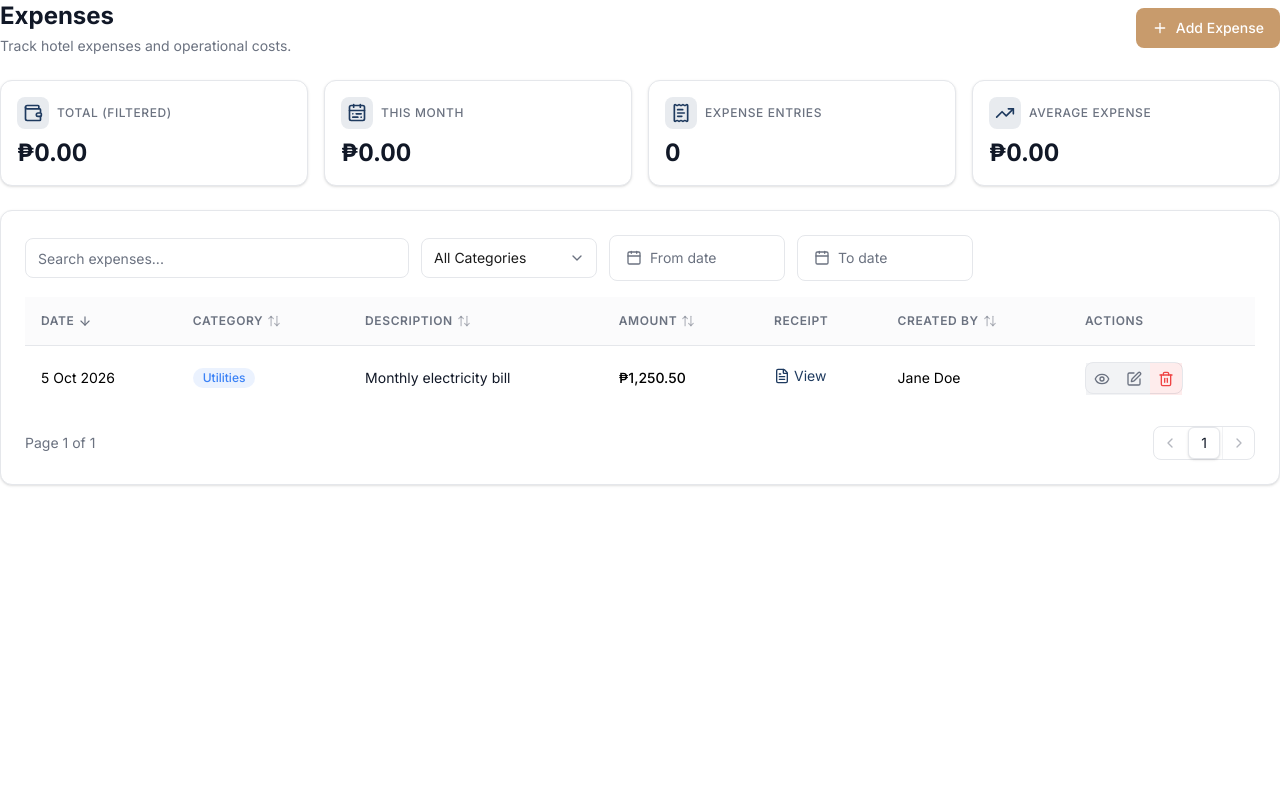
Scenario: ExpensesPage › closes the detail modal
Click the button titled "View" at point(1102, 378), box [1086,362,1118,394]
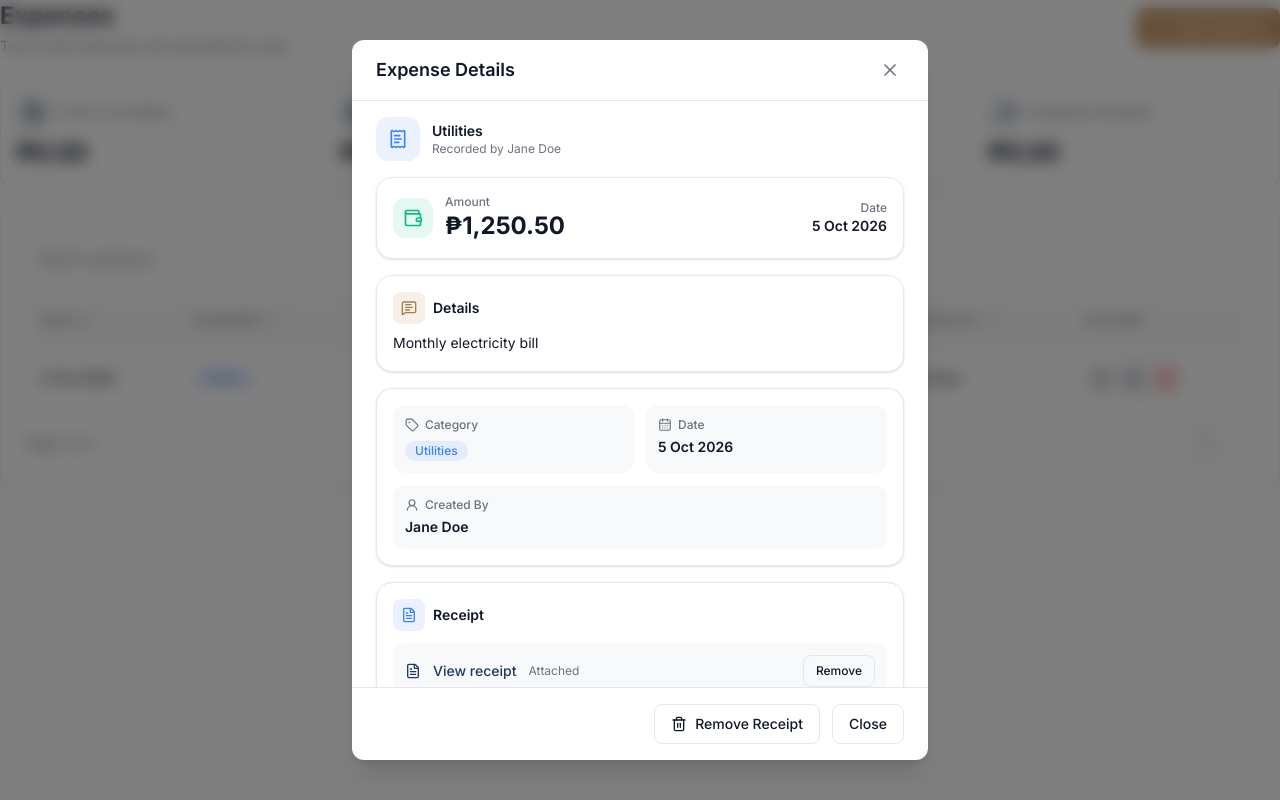
Expected: the heading "Expense Details" is shown, [376,56,515,84]
Click the button "Close" at point(868, 724), box [832,704,904,744]
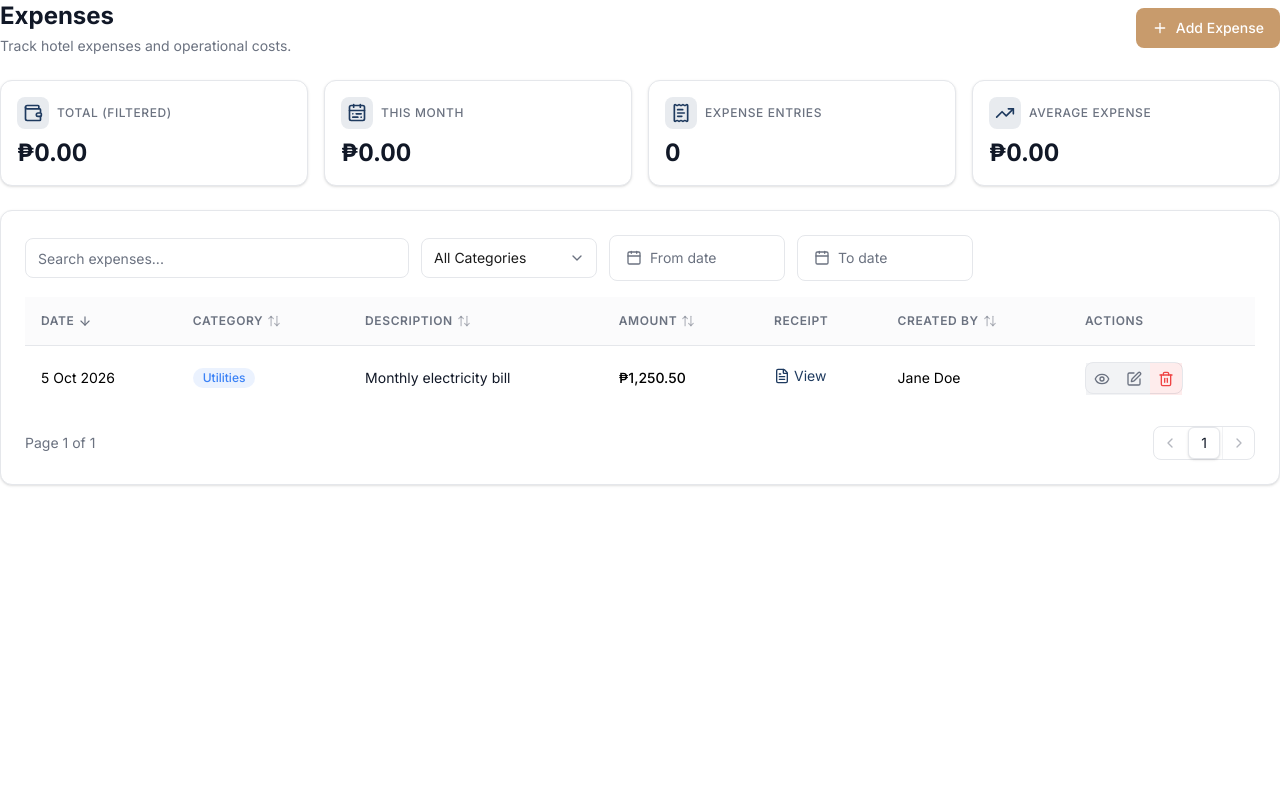
Expected: the heading "Expense Details" is gone
